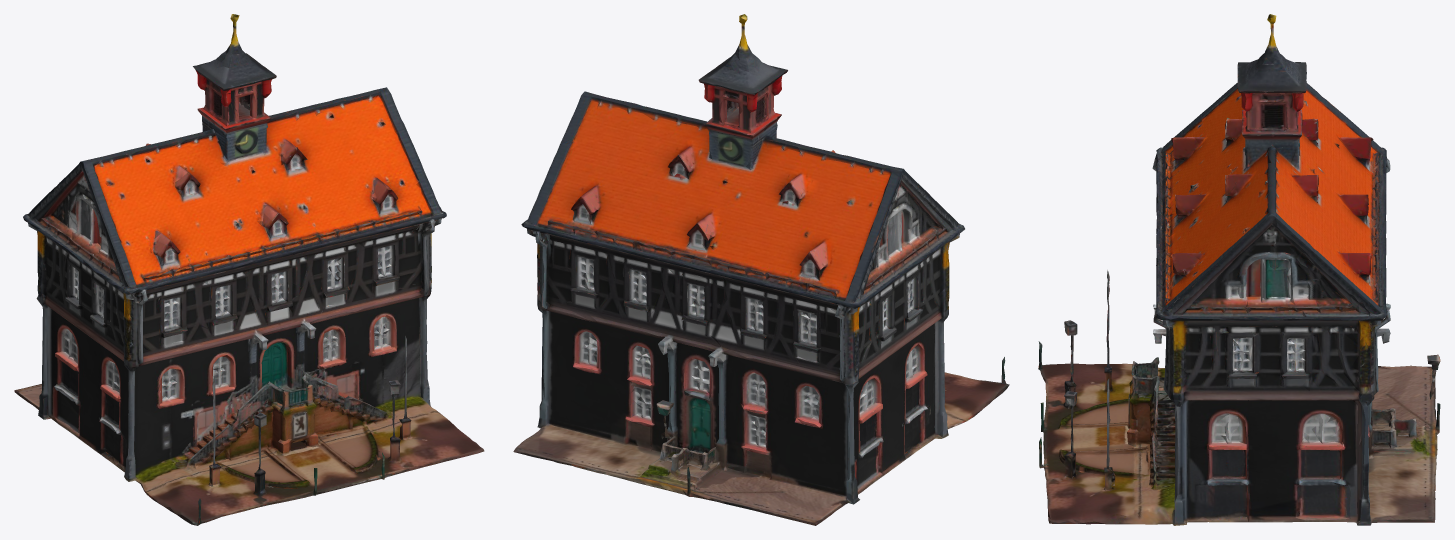
Rendered from town_center__town-hall_e4.glb.
3 renders of one model, left to right at view 1: azimuth 30°, elevation 25°; view 2: azimuth 150°, elevation 25°; view 3: azimuth 270°, elevation 25°, orthographic. The views are drawn at different scales.
Visible parts, largest first — view 1: Mesh1.0; view 2: Mesh1.0; view 3: Mesh1.0.
Part boxes in pixels (x1,y1,x2,y2): Mesh1.0: [14, 14, 484, 525]; Mesh1.0: [513, 14, 1009, 525]; Mesh1.0: [1038, 14, 1440, 525].
Size of the model in its own units: 1.63 by 1.92 by 1.62.
Materials: 1 (1 with a texture image).
